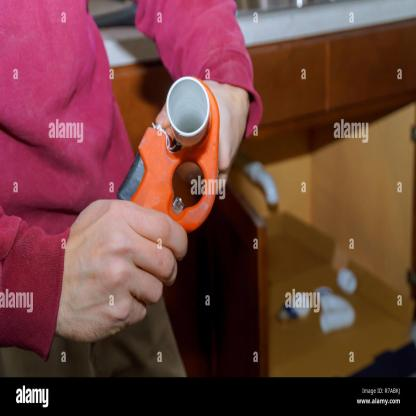PVC: (168, 73, 210, 147)
